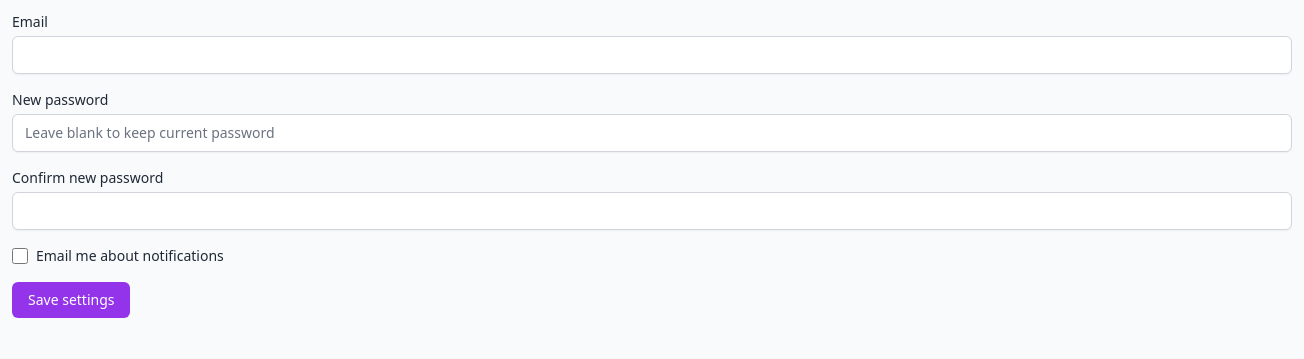
Test case: SettingsForm › shows a validation error on submit when required fields are missing
This screenshot has width=1304, height=359.
Click the button "Save settings" at point(71, 300), box [12,282,130,318]
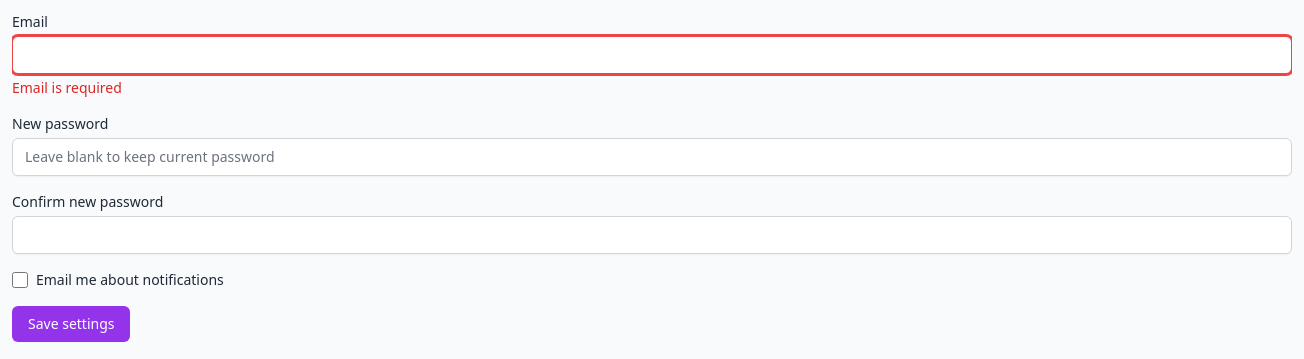
Result: the text "Email is required" is shown at [12,78,122,97]
